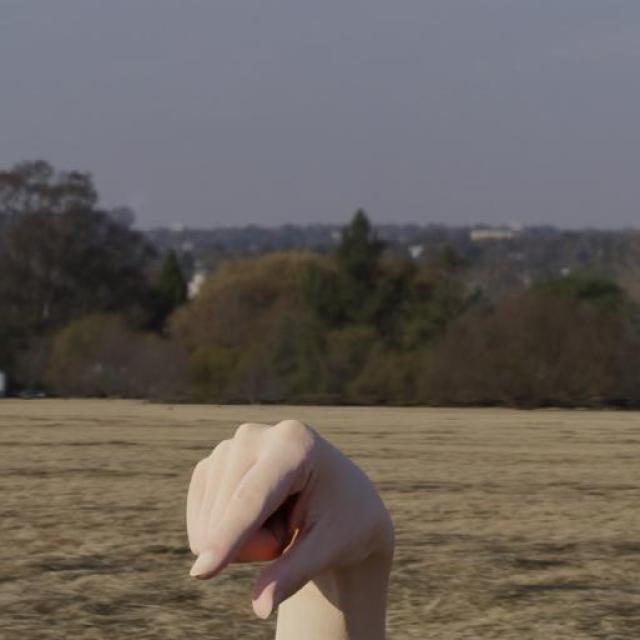Q: (183, 416, 400, 622)
